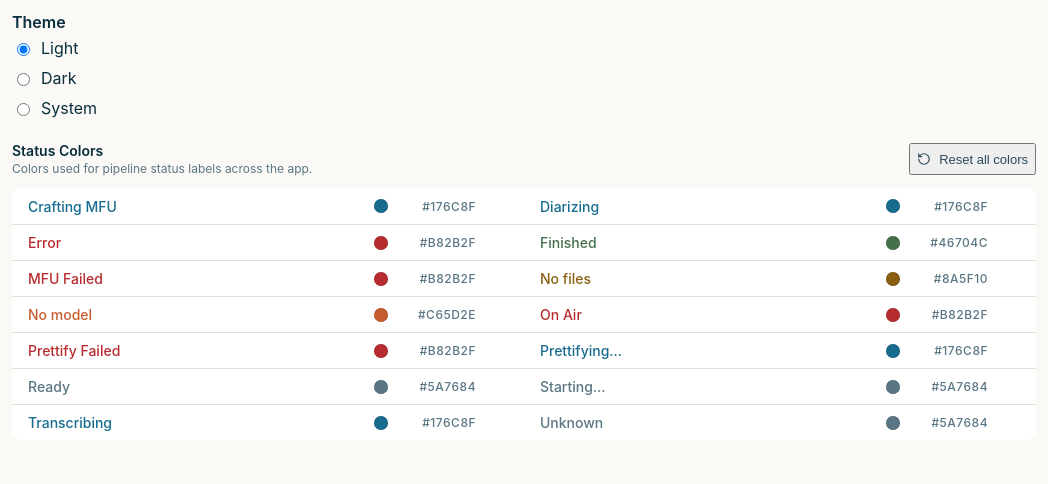
Test: AppearanceSection › reverts to the previous theme and shows an error when persisting fails
This screenshot has width=1048, height=484.
Click the radio button labelled "Dark" at (24, 80), box top-left (17, 73), bottom-right (30, 86)
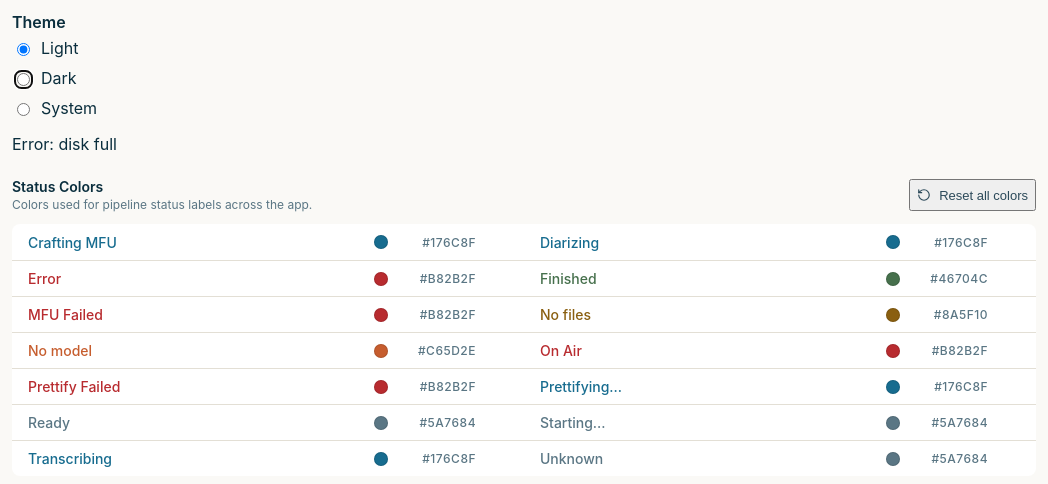
Expected: the radio button labelled "Light" is checked, top-left (17, 43), bottom-right (30, 56)
Expected: the message shows "disk full", top-left (12, 134), bottom-right (117, 154)
